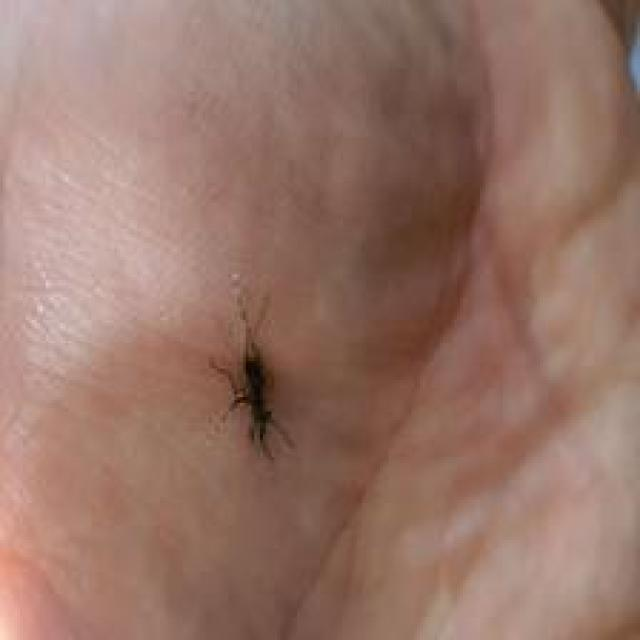Aedes albopictus: (207, 283, 299, 463)
